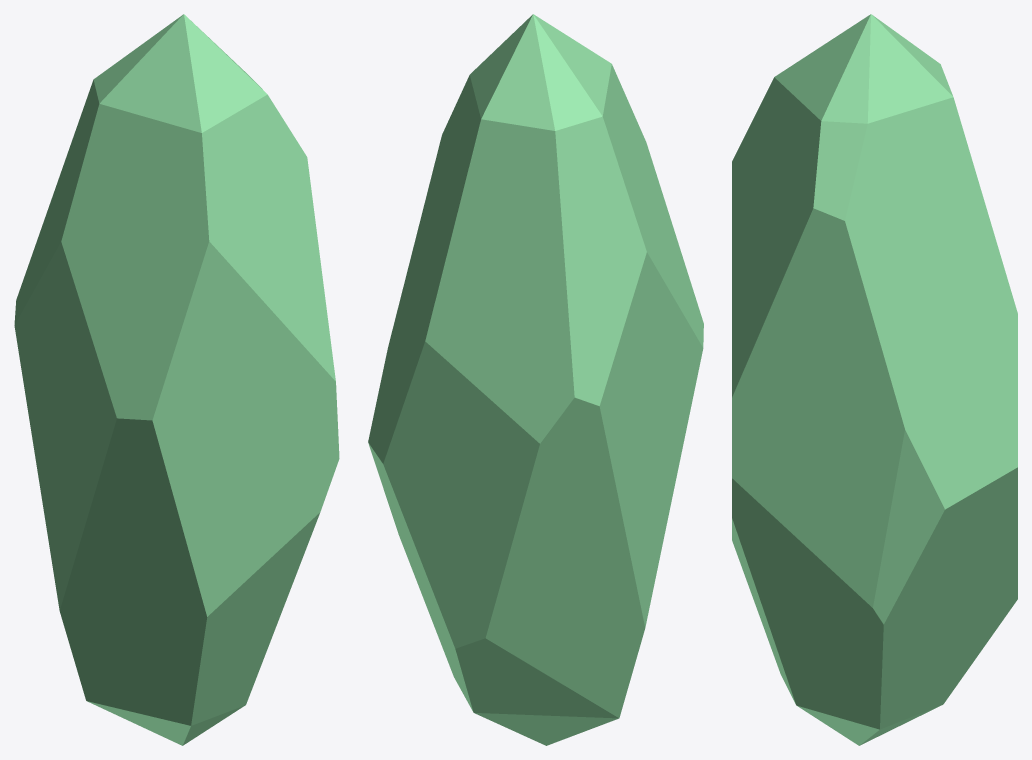
Rendered from crystal 1.fbx.
3 views of the same model, side by side, from view 1: azimuth 30°, elevation 25°; view 2: azimuth 150°, elevation 25°; view 3: azimuth 270°, elevation 25° (orthographic).
Parts seen in each view (by area): view 1: crystal; view 2: crystal; view 3: crystal.
Part boxes in pixels (left/top/right/bottom): crystal: left=14, top=14, right=339, bottom=745; crystal: left=368, top=14, right=703, bottom=745; crystal: left=732, top=14, right=1017, bottom=745.
Size of the model in its own units: 16.48 by 46.79 by 16.48.
